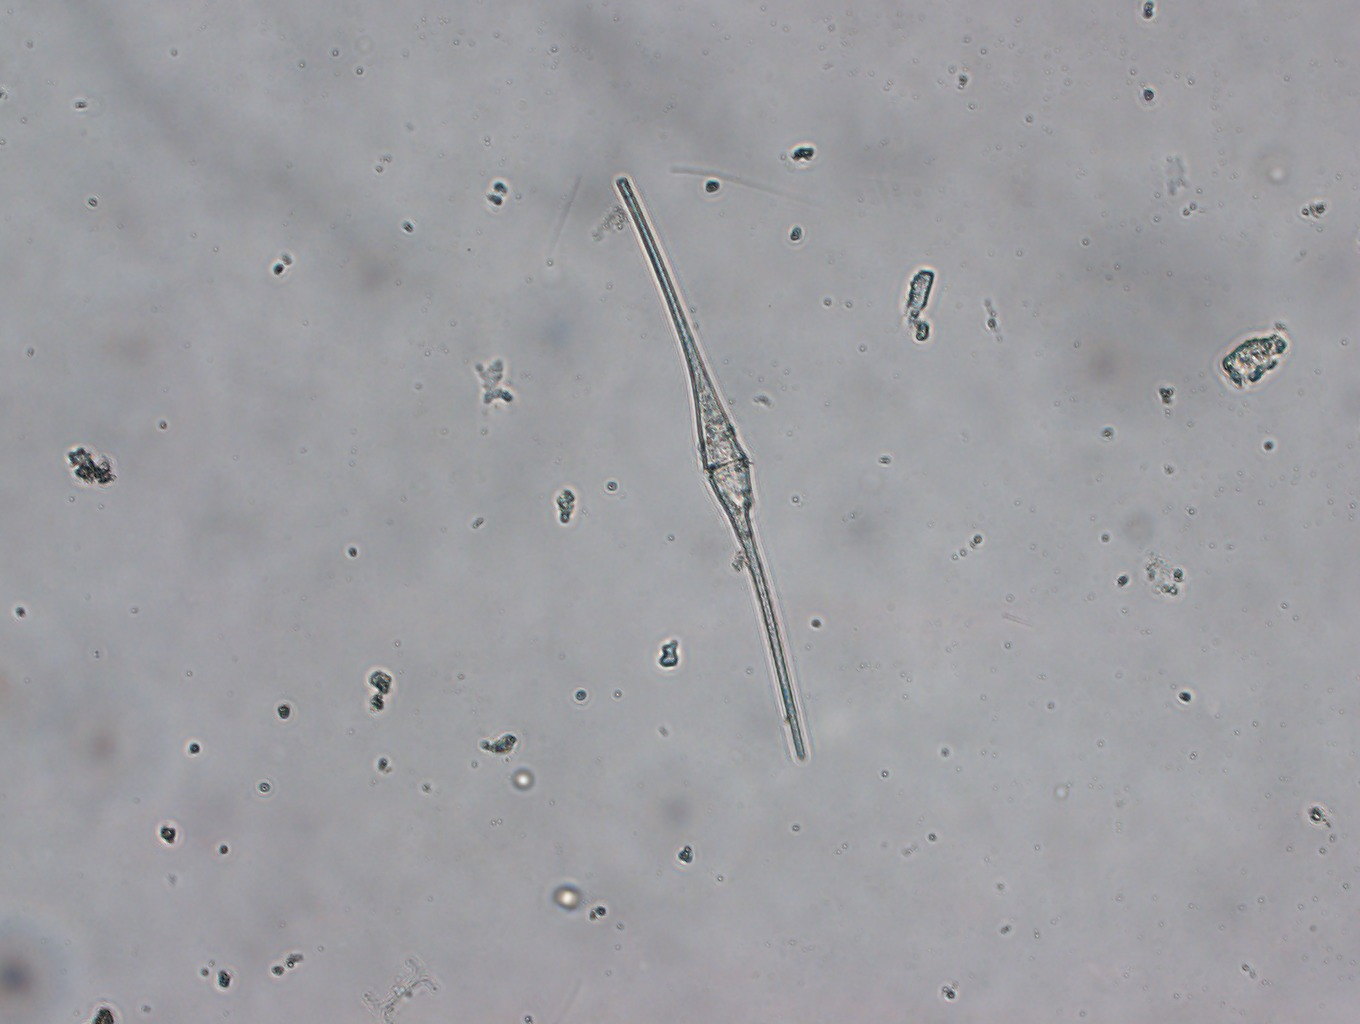ceratium fusus: (612, 169, 810, 764)
